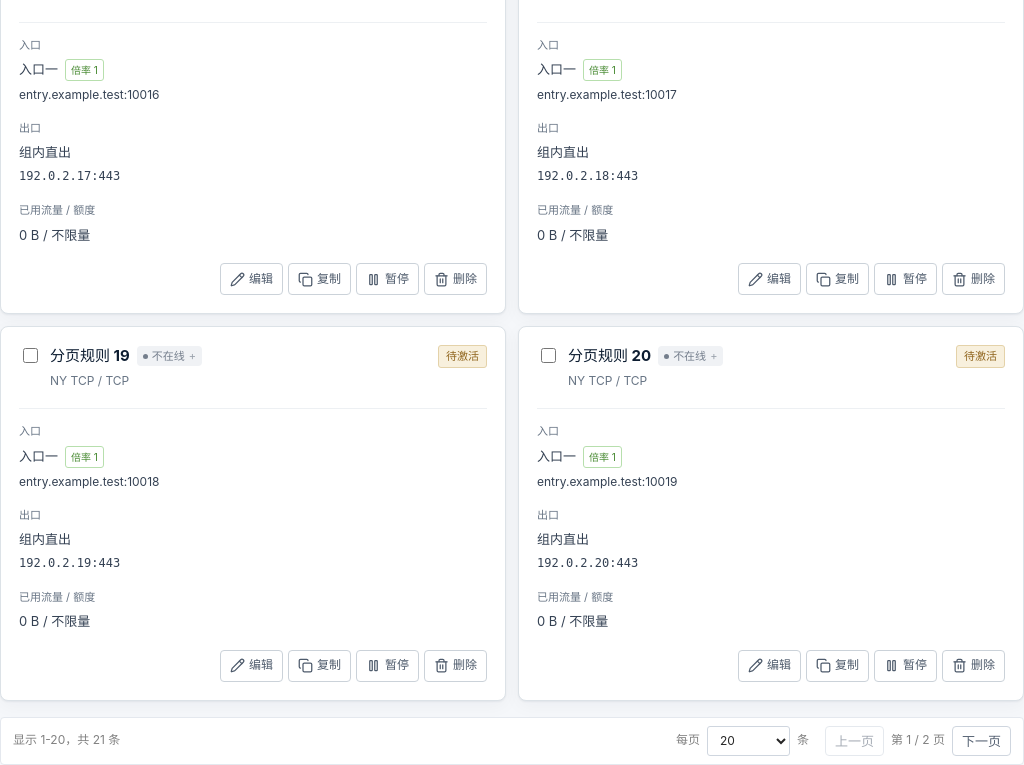
ForwardRulesPage › paginates rules and resets to the first page when filters or page size change
(page scrolled)
Expected: the text with class "rule-pagination__summary" reads "显示 1-20，共 21 条", [13, 732, 120, 747]
Click the button "下一页".
click(982, 741)  # box [952, 726, 1011, 756]
(page scrolled)
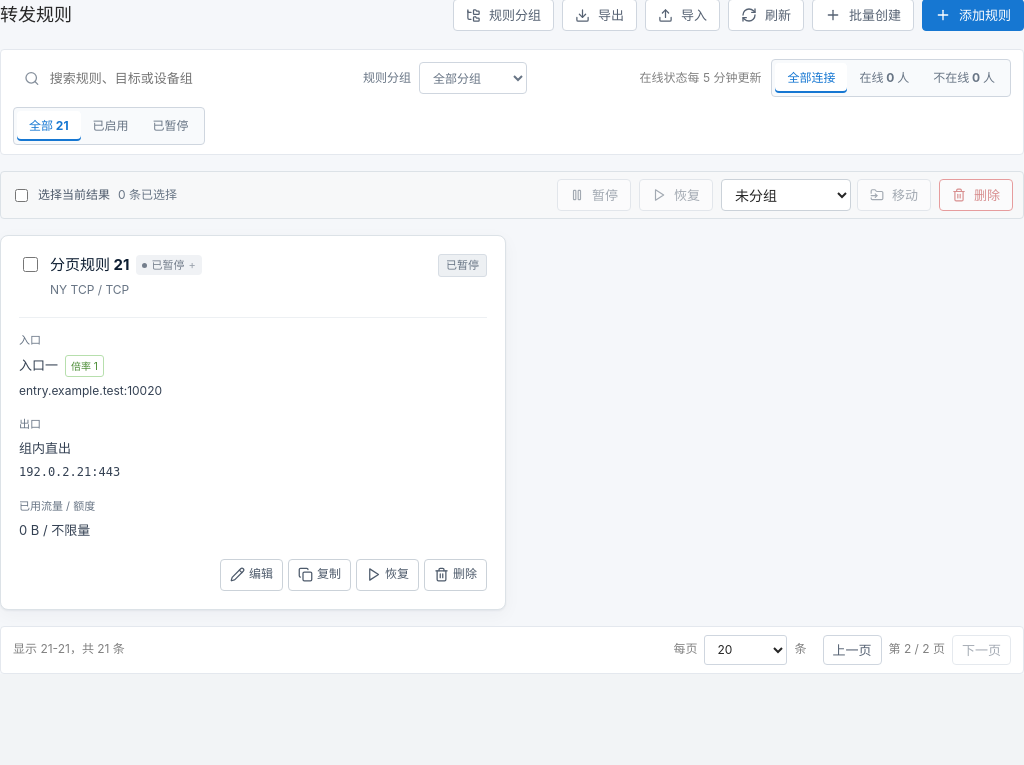
Result: the text with class "rule-pagination__summary" reads "显示 21-21，共 21 条" at [13, 641, 125, 656]
Select "10" in the dropdown named "每页规则数量" at point(746, 650), box [704, 635, 788, 665]
(page scrolled)
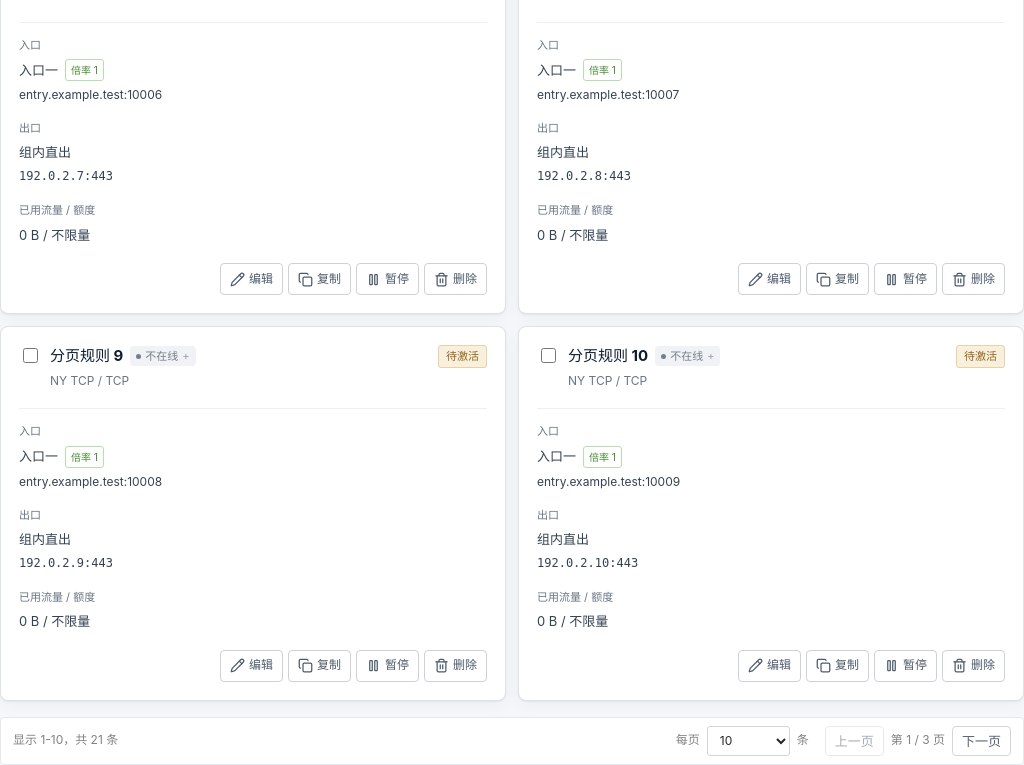
Result: the text with class "rule-pagination__summary" reads "显示 1-10，共 21 条" at [13, 732, 118, 748]
Click the button "下一页".
click(982, 741)  # box [952, 726, 1011, 756]
(page scrolled)
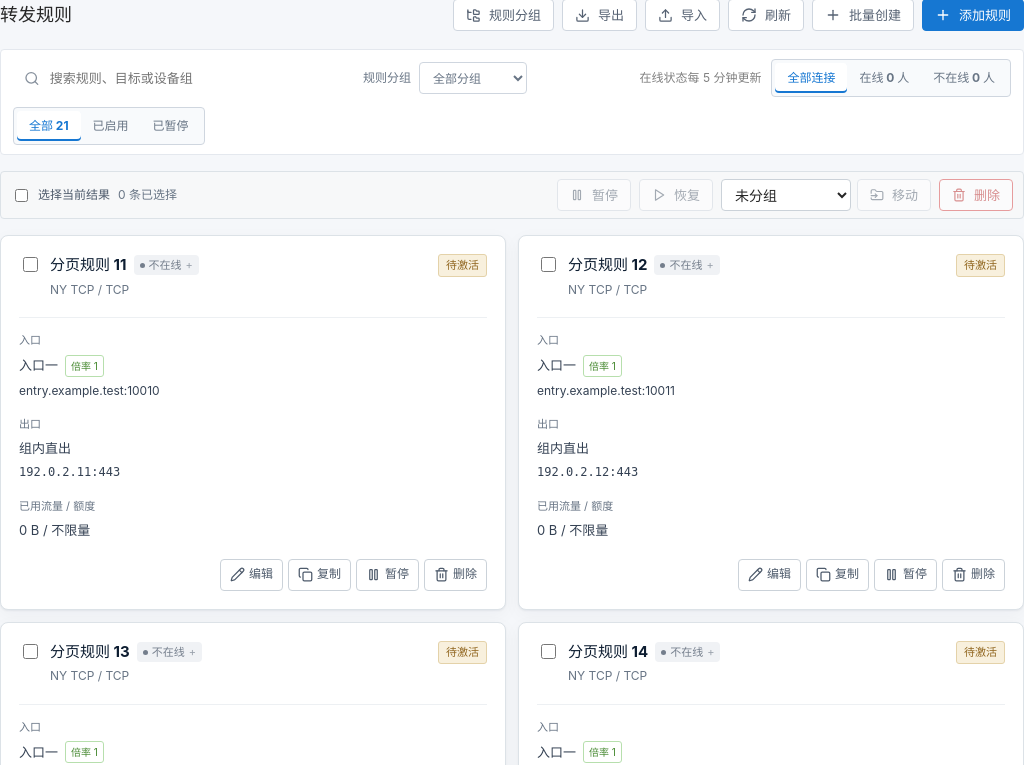
Type "分页规则 21" into the field with placeholder "搜索规则、目标或设备组".
click(195, 78); type("分页规则 21")  # box [48, 60, 342, 96]
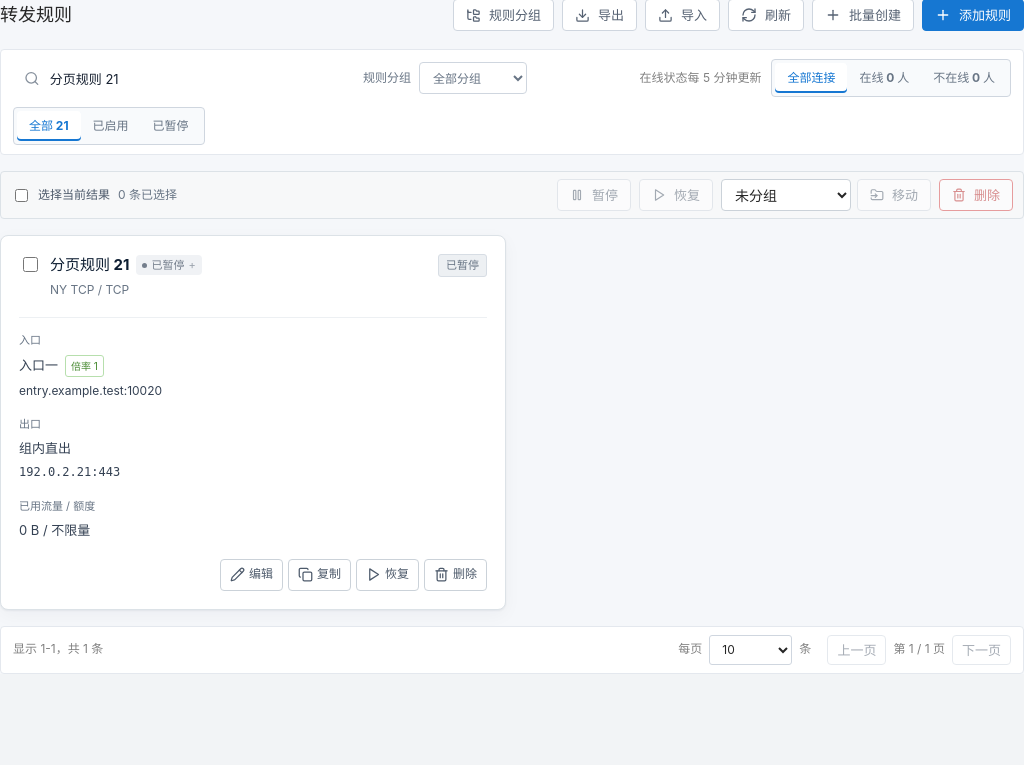
Result: the text with class "rule-pagination__summary" reads "显示 1-1，共 1 条" at [13, 641, 103, 656]
